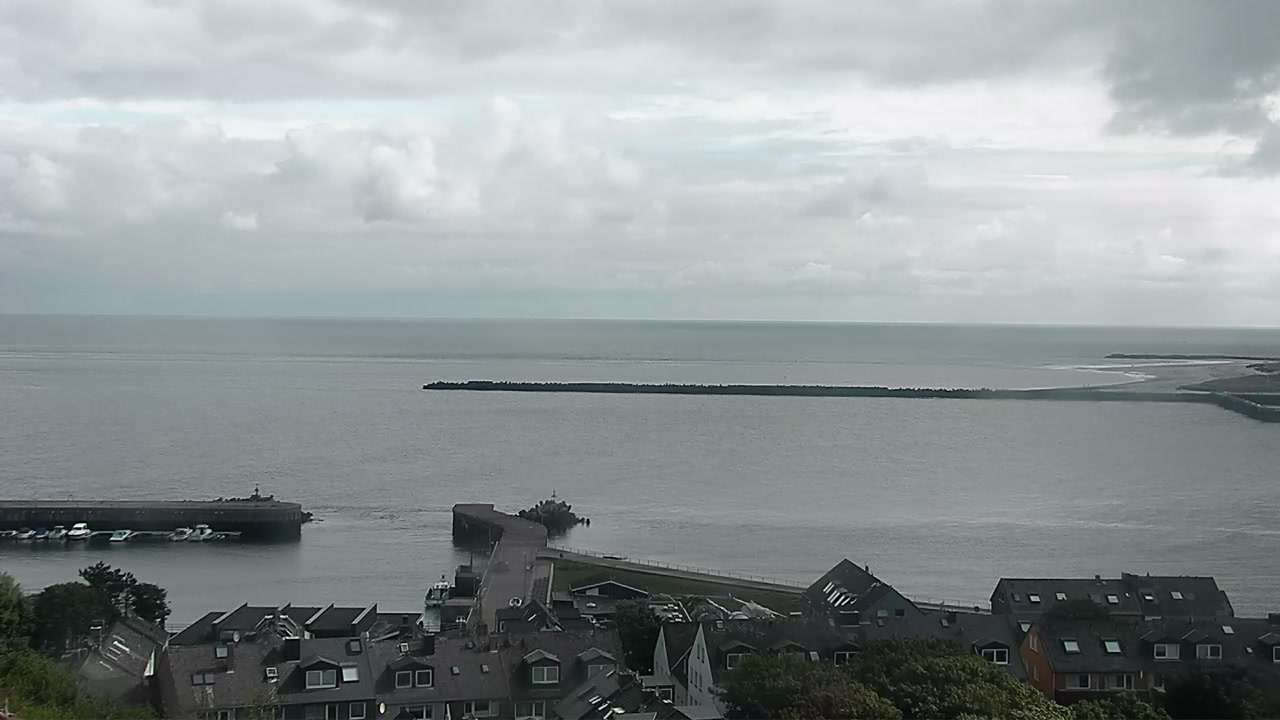human: (559, 552, 563, 558)
sea: (424, 573, 451, 607), (187, 524, 213, 542), (68, 522, 92, 540), (167, 527, 193, 542), (107, 529, 132, 542), (15, 527, 36, 539), (48, 526, 67, 539), (33, 527, 50, 539), (1, 529, 18, 539), (509, 595, 522, 608)
